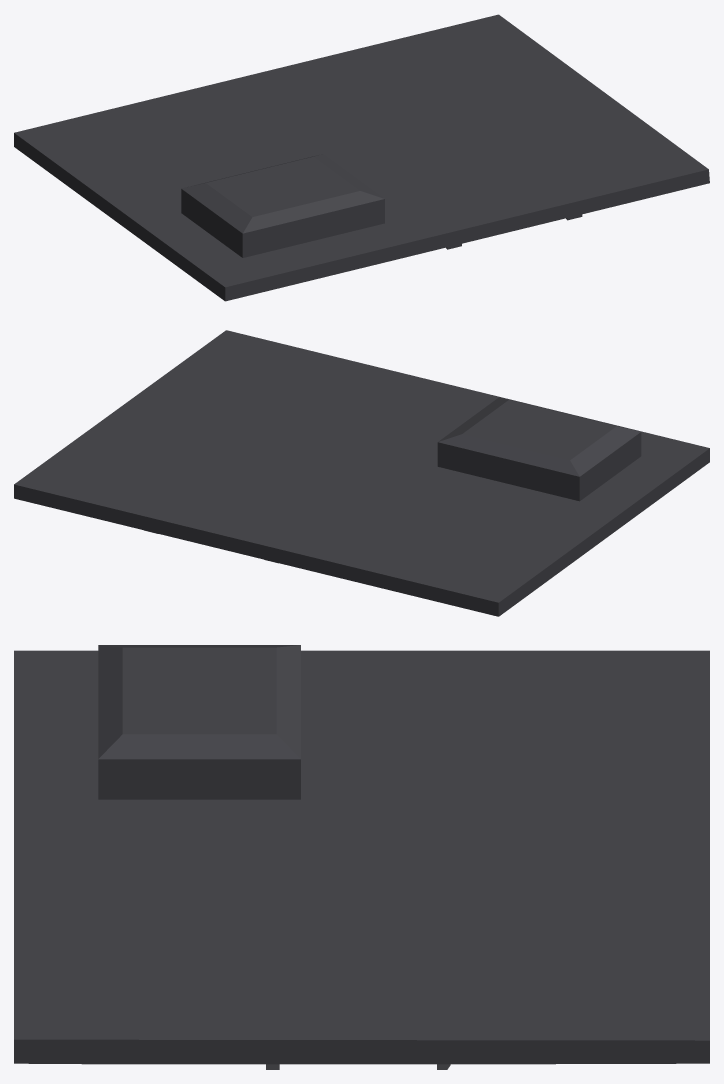
The model's file is SM_Bld_HangerCeiling_01.fbx.
The picture shows the model from 3 angles, top to bottom: view 1: azimuth 30°, elevation 25°; view 2: azimuth 150°, elevation 25°; view 3: azimuth 270°, elevation 25°; orthographic projection. The views are drawn at different scales.
Visible parts, largest first — view 1: SM_Bld_HangerCeiling_01_LOD0; view 2: SM_Bld_HangerCeiling_01_LOD0; view 3: SM_Bld_HangerCeiling_01_LOD0.
Part boxes in pixels (x1,y1,x2,y2): SM_Bld_HangerCeiling_01_LOD0: (14,14,709,301); SM_Bld_HangerCeiling_01_LOD0: (14,330,709,616); SM_Bld_HangerCeiling_01_LOD0: (14,645,709,1069).
Bounding box in the file's own units: 3031 × 4023 × 632.
1 material, 1 textured.
